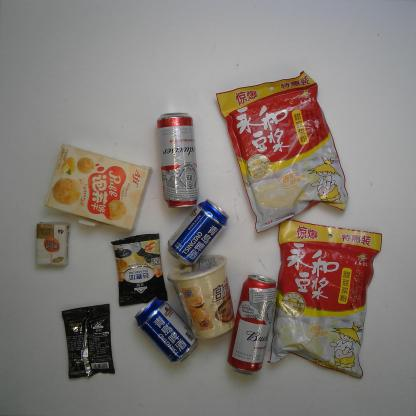Alcohol: (226, 273, 279, 377), (133, 295, 201, 366), (156, 111, 201, 210), (167, 198, 230, 267)
Dessert: (43, 143, 153, 232)
Instant Drink: (216, 68, 351, 235), (265, 218, 384, 379), (110, 232, 168, 307), (60, 303, 116, 380)
Instant Noodles: (166, 254, 238, 341)
Tissue: (35, 221, 71, 267)
